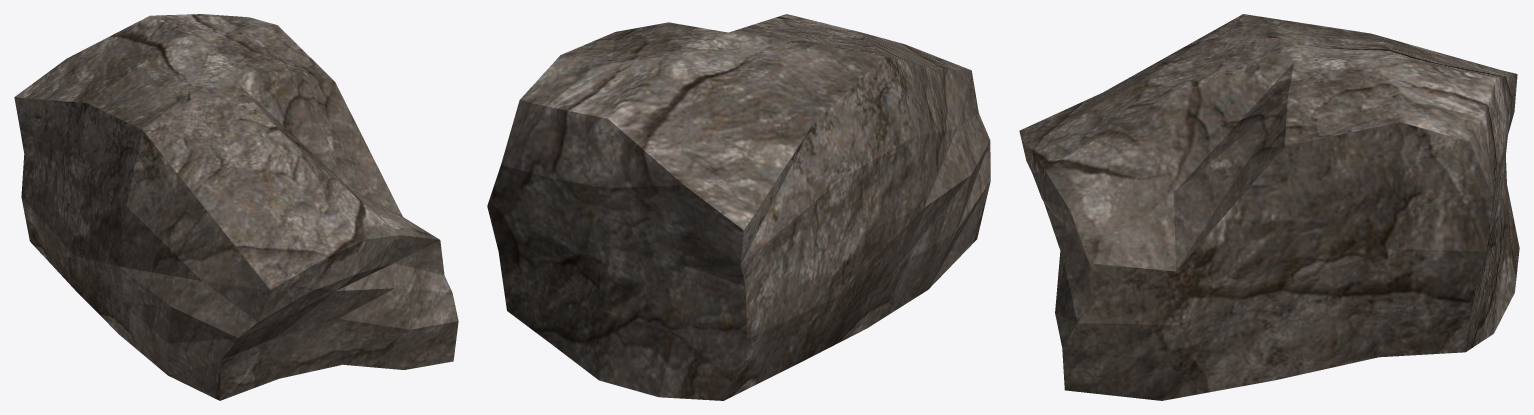
Rendered from Rock_4.obj.
The picture shows the model from 3 angles, left to right: view 1: azimuth 30°, elevation 25°; view 2: azimuth 150°, elevation 25°; view 3: azimuth 270°, elevation 25°; orthographic projection. The views are drawn at different scales.
Parts seen in each view (by area): view 1: Rock_4_Cube.002; view 2: Rock_4_Cube.002; view 3: Rock_4_Cube.002.
Boxes of the visible parts, left/top/right/bottom form: Rock_4_Cube.002: left=14, top=14, right=458, bottom=400; Rock_4_Cube.002: left=487, top=14, right=990, bottom=400; Rock_4_Cube.002: left=1019, top=14, right=1519, bottom=400.
Size of the model in its own units: 1.62 by 1.43 by 2.34.
Materials: 1 (1 with a texture image).
